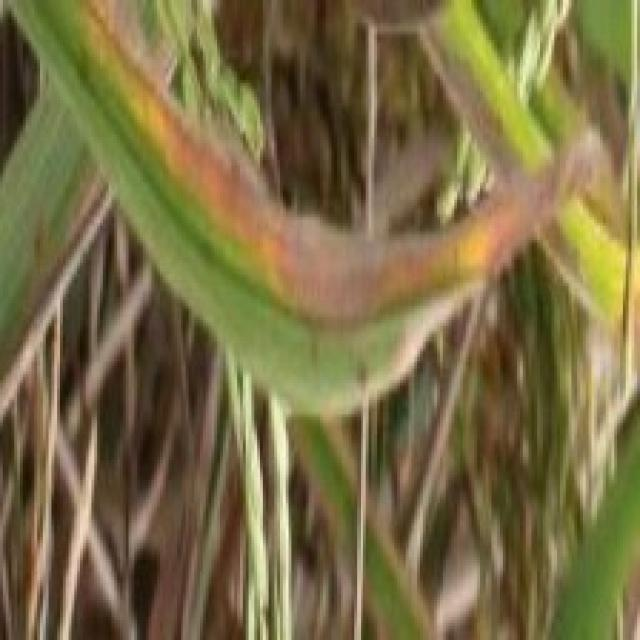Rice___Bacterial_Leaf_Blight: (0, 0, 604, 419)
